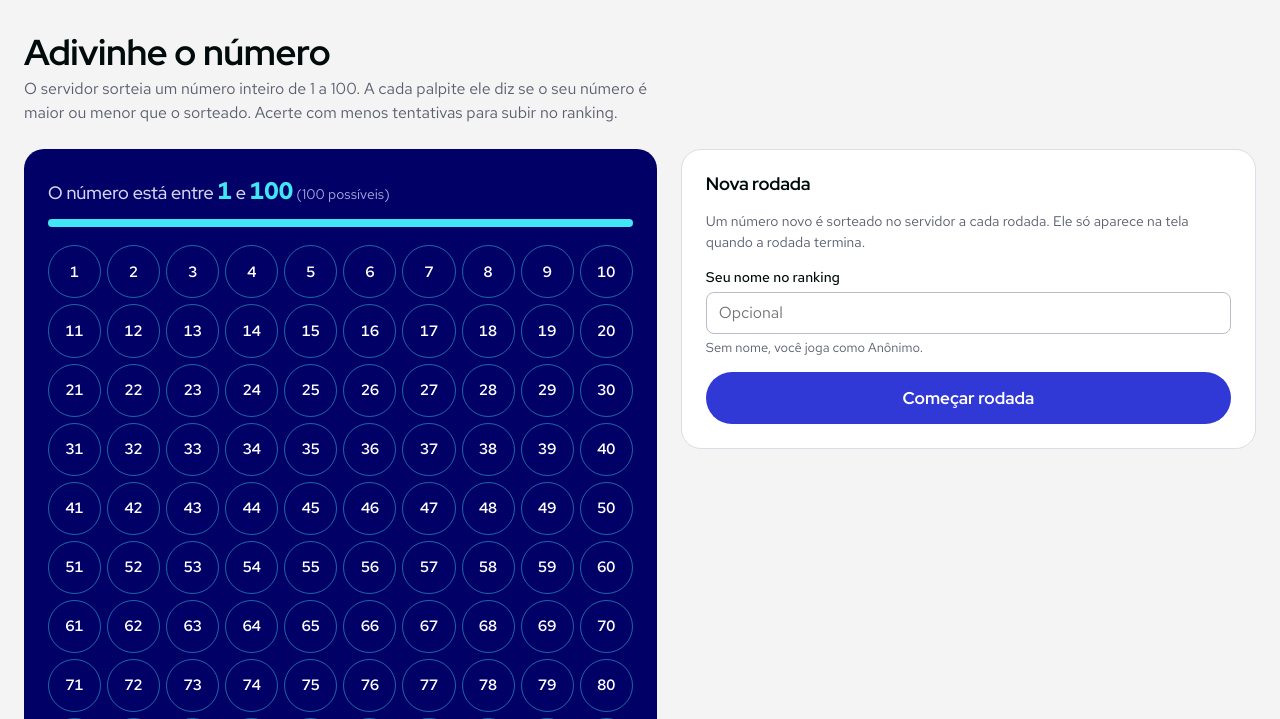
Test case: <Jogar /> (fluxo completo com a API mockada) › desistir revela o número
Click the button "Começar rodada" at coordinates (968, 398), box 706,372 -> 1231,424
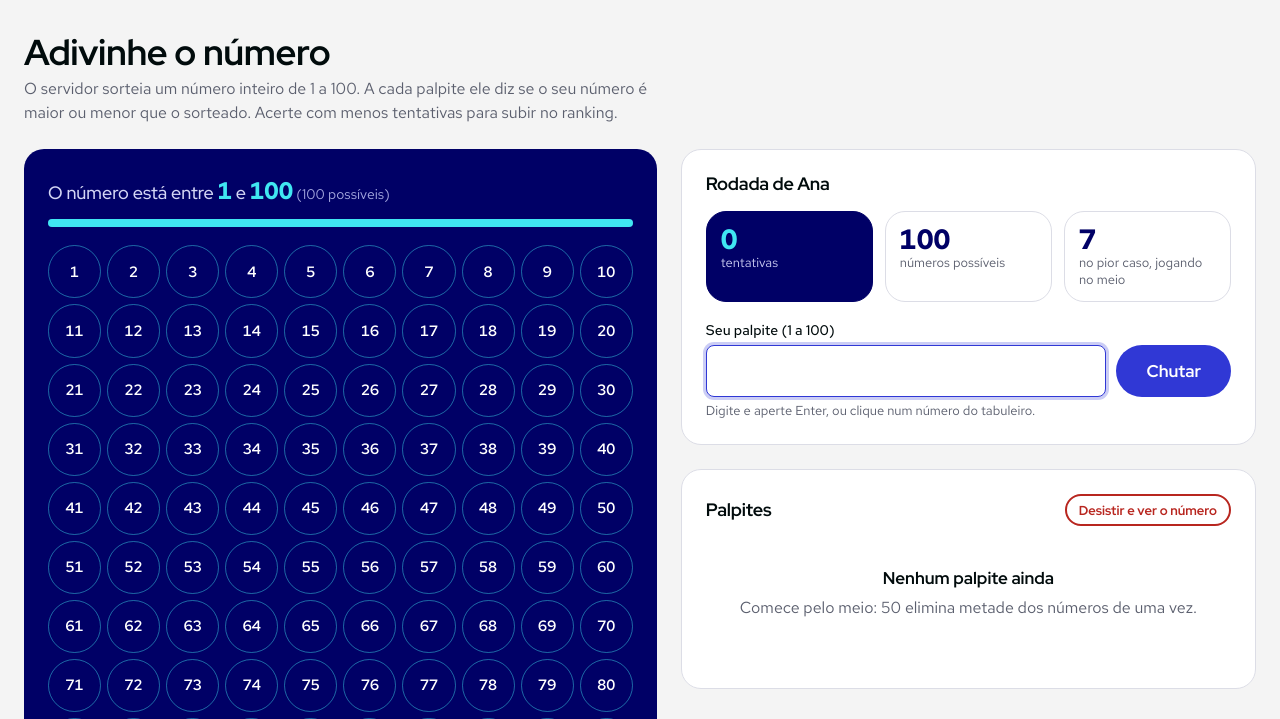
Click the button "Desistir e ver o número" at coordinates (1148, 510), box 1065,494 -> 1231,526
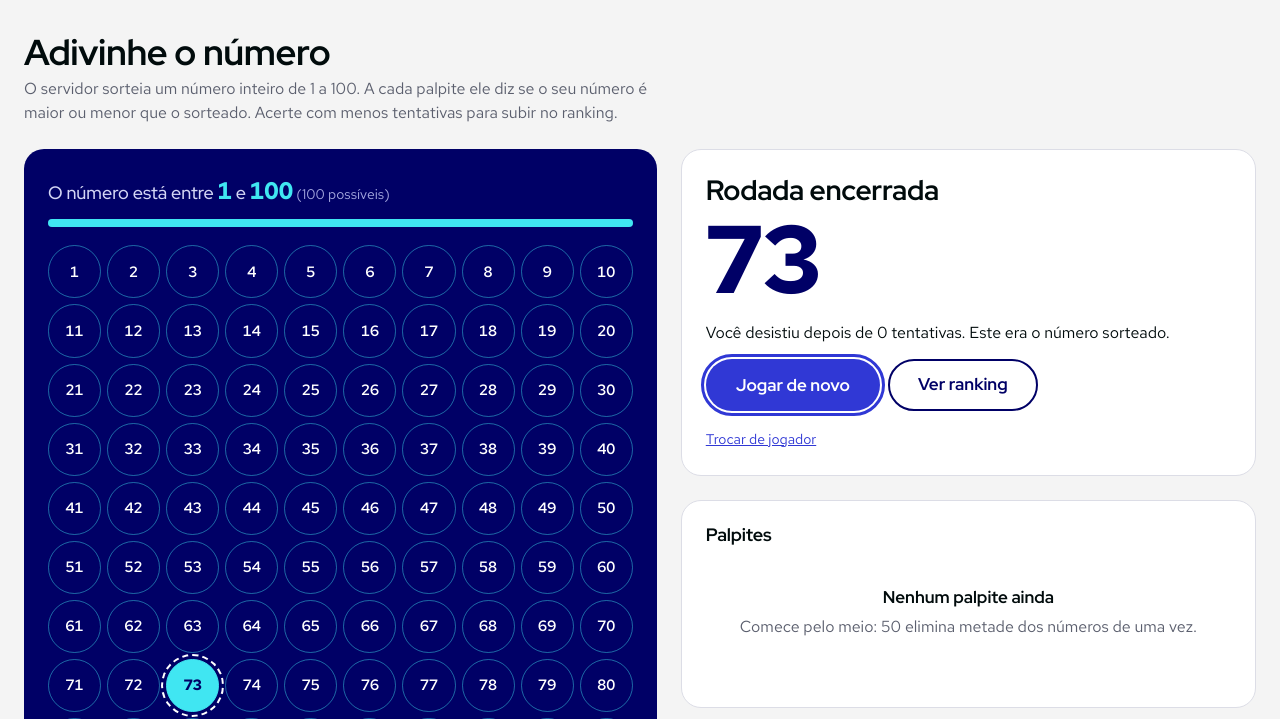
Result: the text named "O número era 73" is shown at 706,195 -> 821,322
